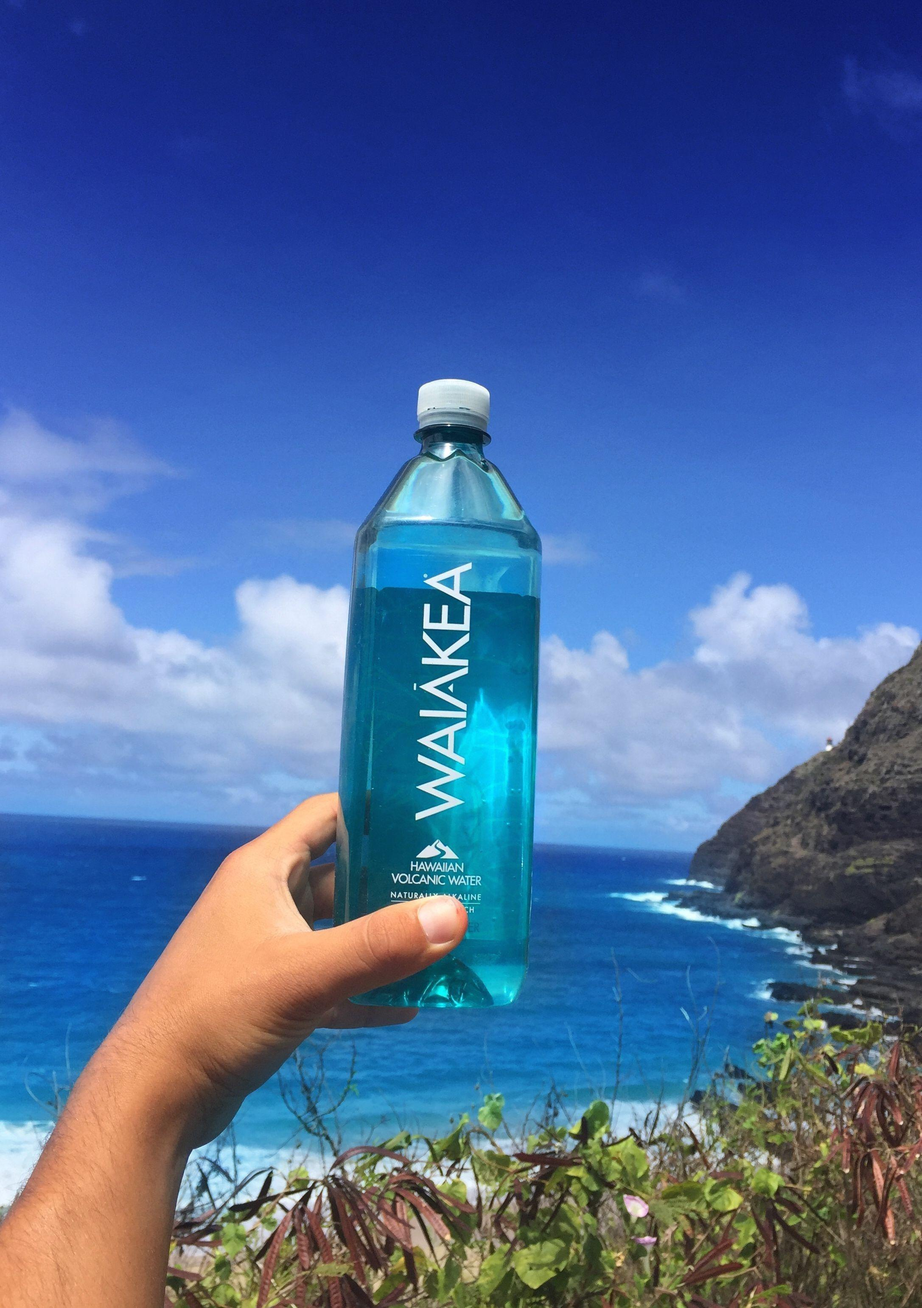bottle-plastic: (328, 373, 547, 1008)
